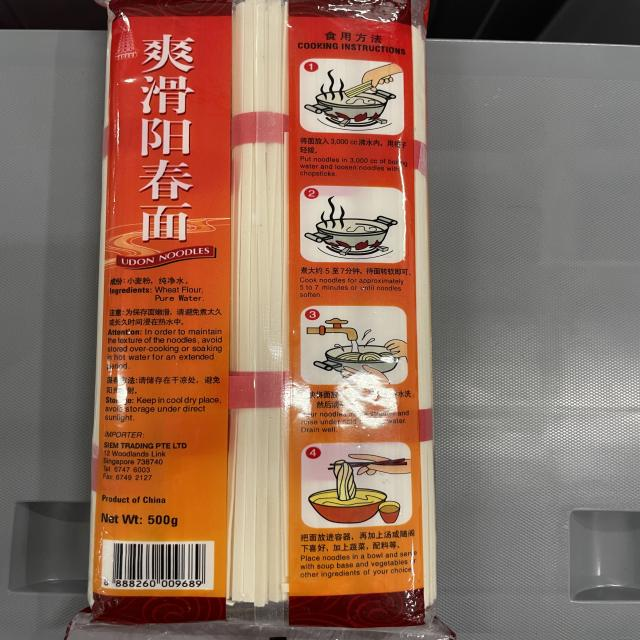object_name: (108, 16, 436, 603)
